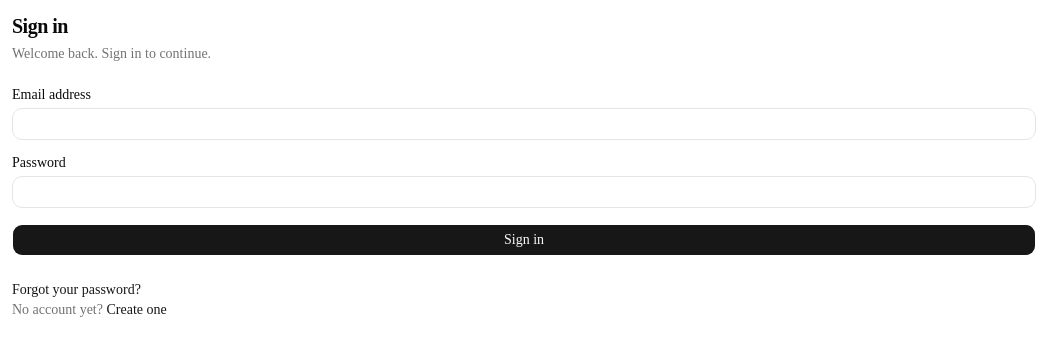
SignInForm › reports an invalid email without reaching the auth server
Step 1. Type "not-an-email" into the field labelled "Email address" → (524, 124), box top-left (12, 108), bottom-right (1036, 140)
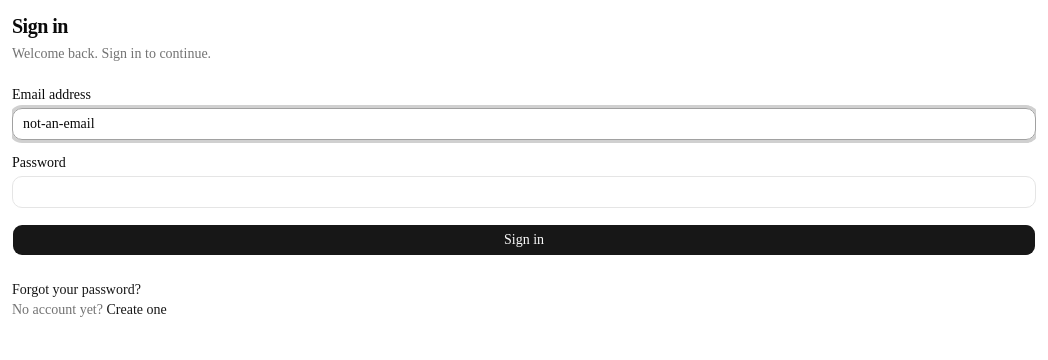
Step 2. Type "a password" into the password field labelled "Password" → (524, 192), box top-left (12, 176), bottom-right (1036, 208)
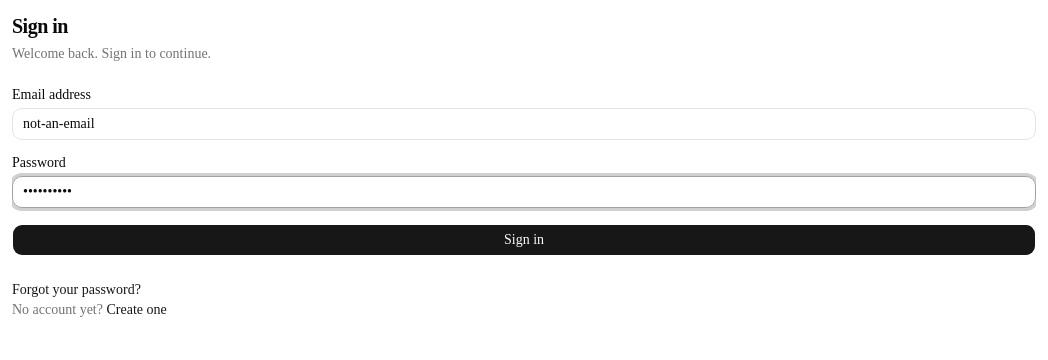
Step 3. Click the button "Sign in" → click(524, 240), box top-left (12, 224), bottom-right (1036, 256)
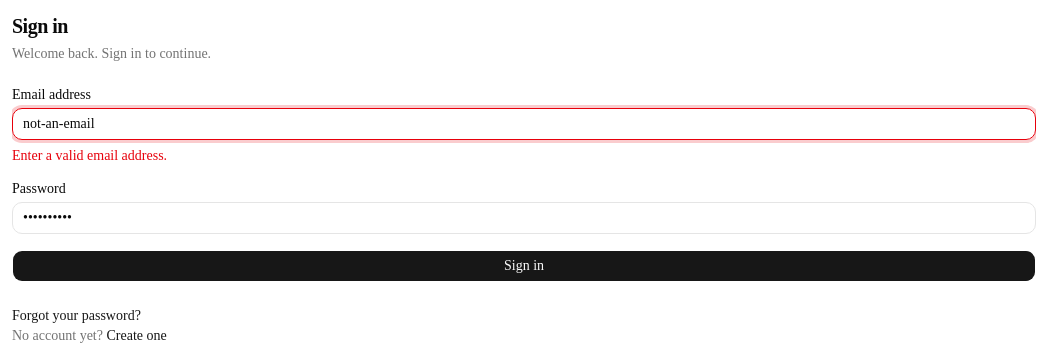
Expected: the text "Enter a valid email address." is shown, top-left (12, 148), bottom-right (167, 163)
